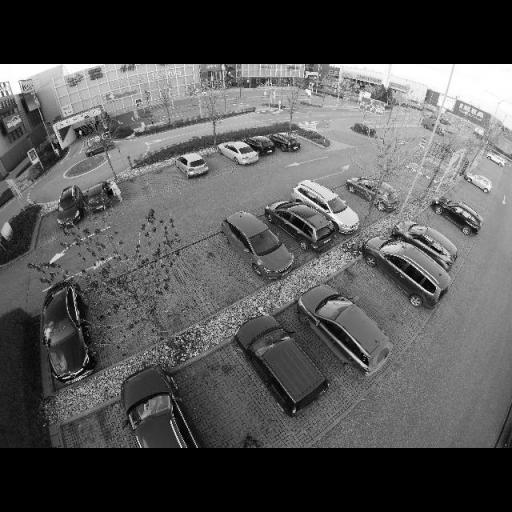busy: (303, 288, 396, 370), (242, 323, 334, 405), (130, 375, 212, 447), (219, 208, 296, 277), (366, 238, 448, 300), (294, 180, 362, 232), (270, 200, 330, 246), (399, 223, 457, 257), (346, 177, 402, 212), (432, 200, 486, 232), (52, 188, 86, 228), (83, 182, 122, 214), (218, 142, 262, 166), (174, 152, 212, 179), (296, 124, 333, 145), (268, 132, 302, 152), (245, 136, 277, 156), (464, 174, 496, 192), (486, 154, 510, 166)
free: (196, 376, 263, 432), (92, 286, 134, 352), (192, 244, 232, 305), (150, 262, 188, 326), (354, 286, 396, 312), (428, 216, 462, 242), (341, 191, 368, 212), (150, 174, 176, 186), (123, 184, 146, 197), (456, 194, 478, 206), (209, 158, 228, 168)
